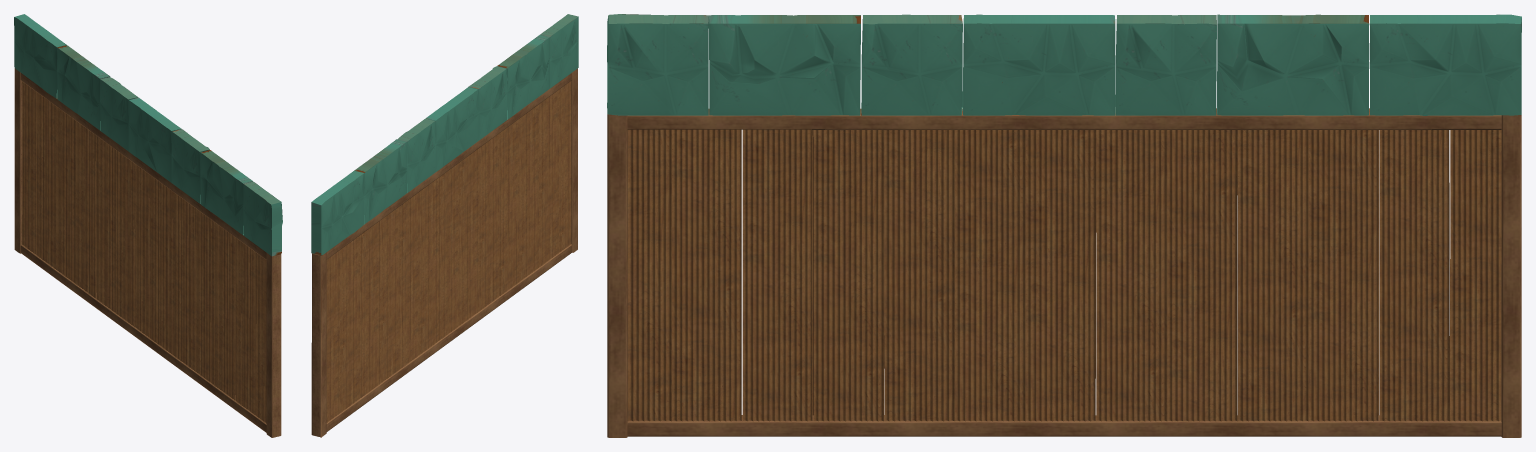
Rendered from SM_Office_Wall01a.fbx.
The picture shows the model from 3 angles, left to right: view 1: azimuth 30°, elevation 25°; view 2: azimuth 150°, elevation 25°; view 3: azimuth 270°, elevation 25°; orthographic projection. The views are drawn at different scales.
Parts seen in each view (by area): view 1: SM_Office_Wall01a_LOD0; view 2: SM_Office_Wall01a_LOD0; view 3: SM_Office_Wall01a_LOD0.
Boxes of the visible parts, x1,y1,x2,y2 form: SM_Office_Wall01a_LOD0: [14, 14, 282, 437]; SM_Office_Wall01a_LOD0: [311, 14, 578, 437]; SM_Office_Wall01a_LOD0: [607, 14, 1521, 437].
Bounding box in the file's own units: 24.74 × 900 × 452.
